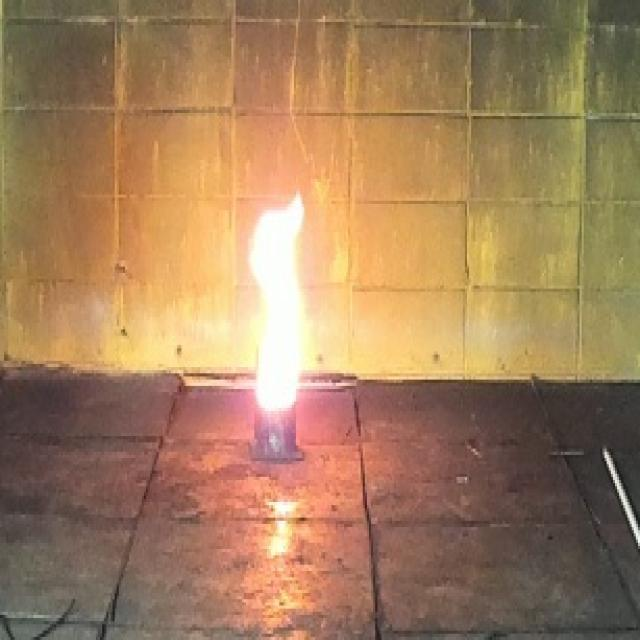Fire: (248, 188, 304, 412)
